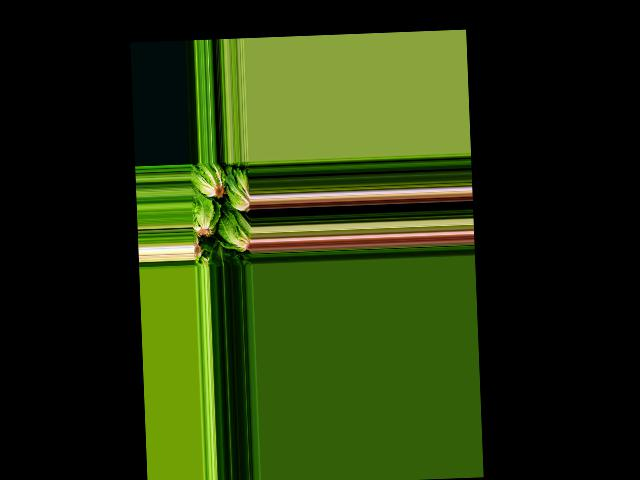lettuce: (207, 242, 232, 267)
